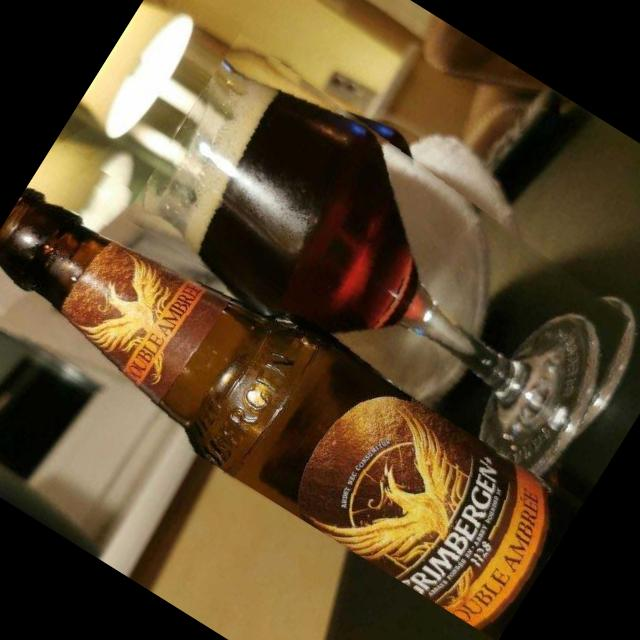Glass: (0, 140, 598, 640), (124, 30, 640, 486)
